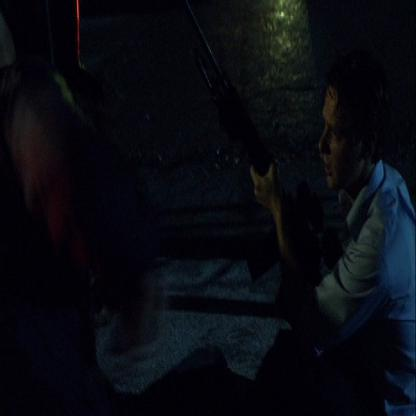Guns: (178, 0, 350, 302)
